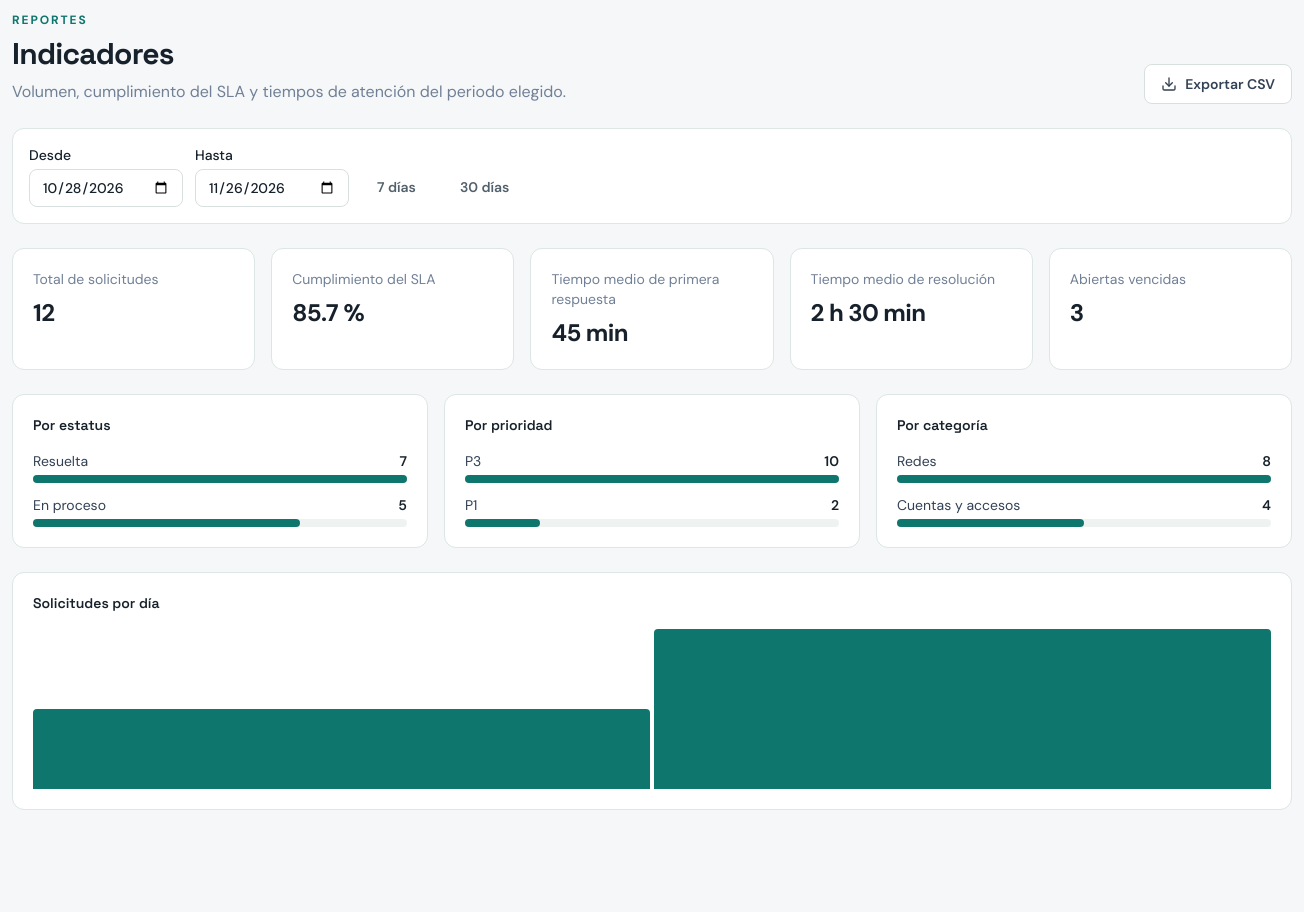
Test: IndicadoresPage (S5-11) › «Exportar CSV» descarga el archivo del rango
Expected: the element named "Tarjetas de indicadores" is shown, [12,248,1292,370]
Step 1. Click the button "Exportar CSV" → (1218, 84), box [1144,64,1292,104]
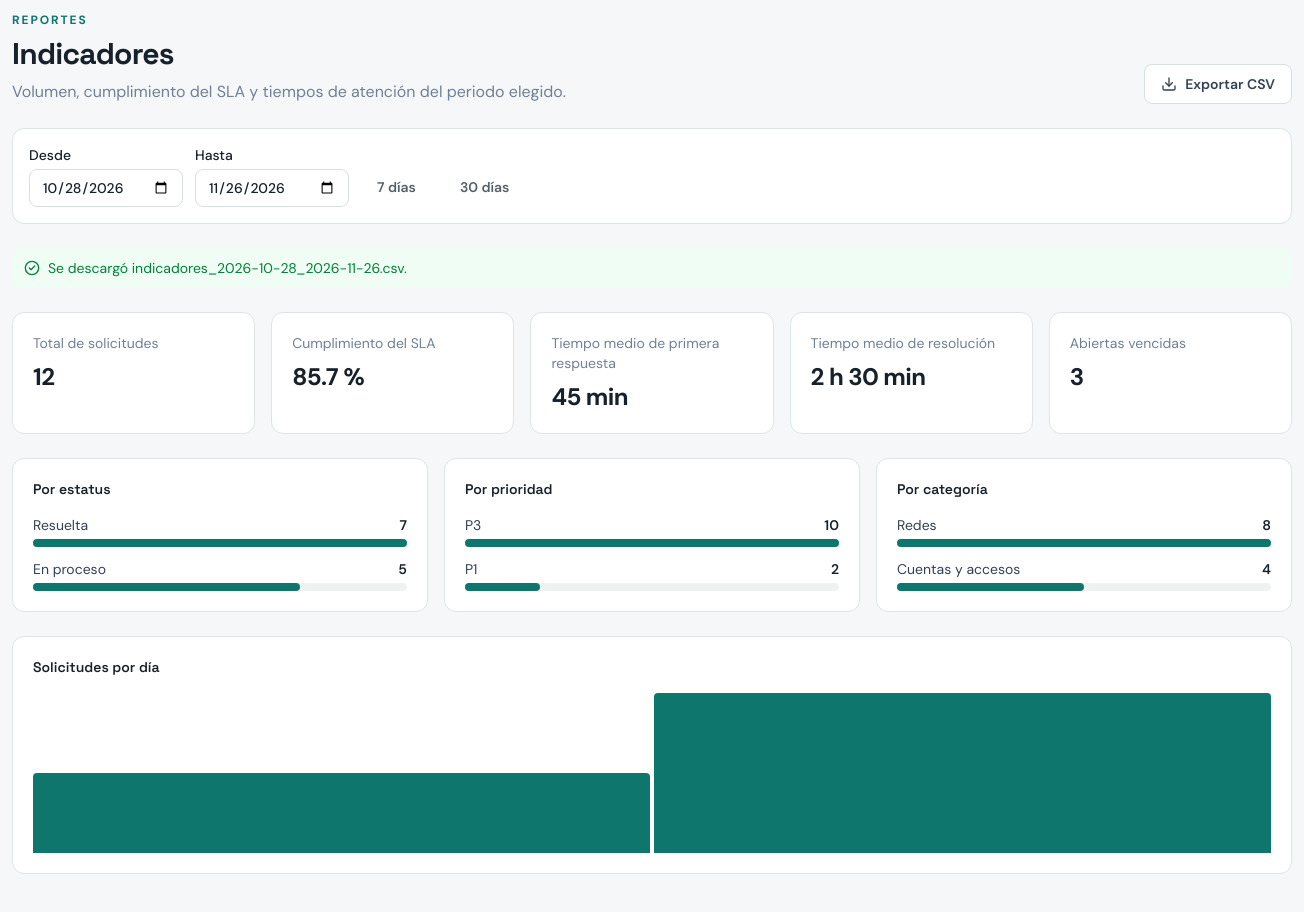
Expected: the message reads "Se descargó indicadores_2026-10-28_2026-11-26.csv.", [12,248,1292,288]
